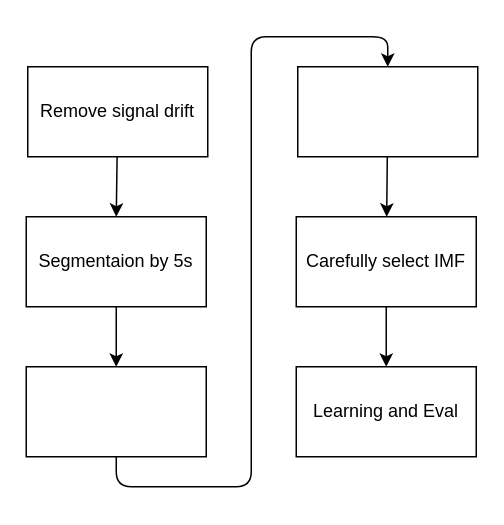
The diagram is 504 pixels wide and 525 high, and some of its shapes have lost their labels. The shapes that lost their labels are listed below. From the top down, each one's centre as x and y in pixels, then its label:
At point 387,111: "Apply EMD/EEMD on each segment".
At point 115,411: "Remove segment including large Peak".
